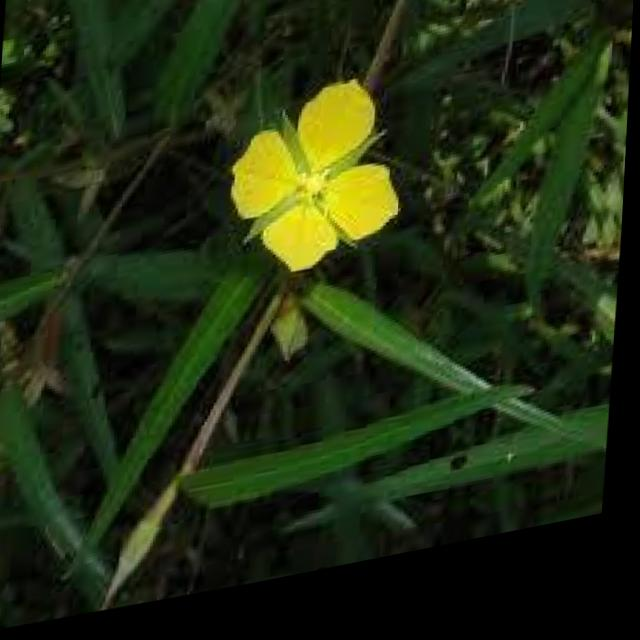Flower: (218, 75, 416, 297)
